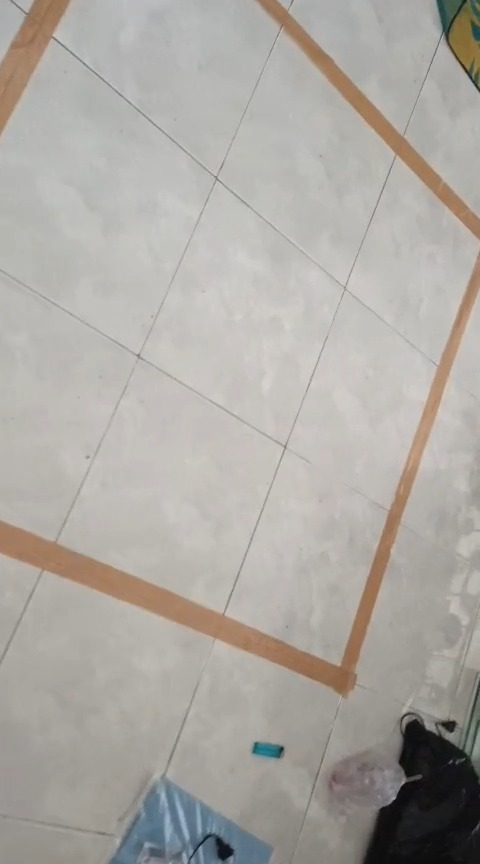floor marking: (0, 247, 479, 694), (255, 0, 479, 241), (0, 0, 69, 130)
